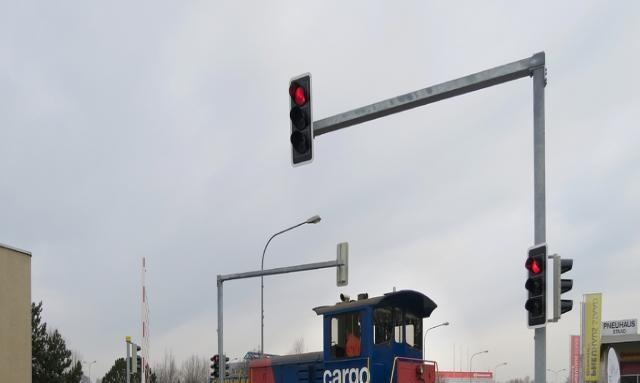red_light: (289, 72, 314, 166), (525, 243, 548, 327)
